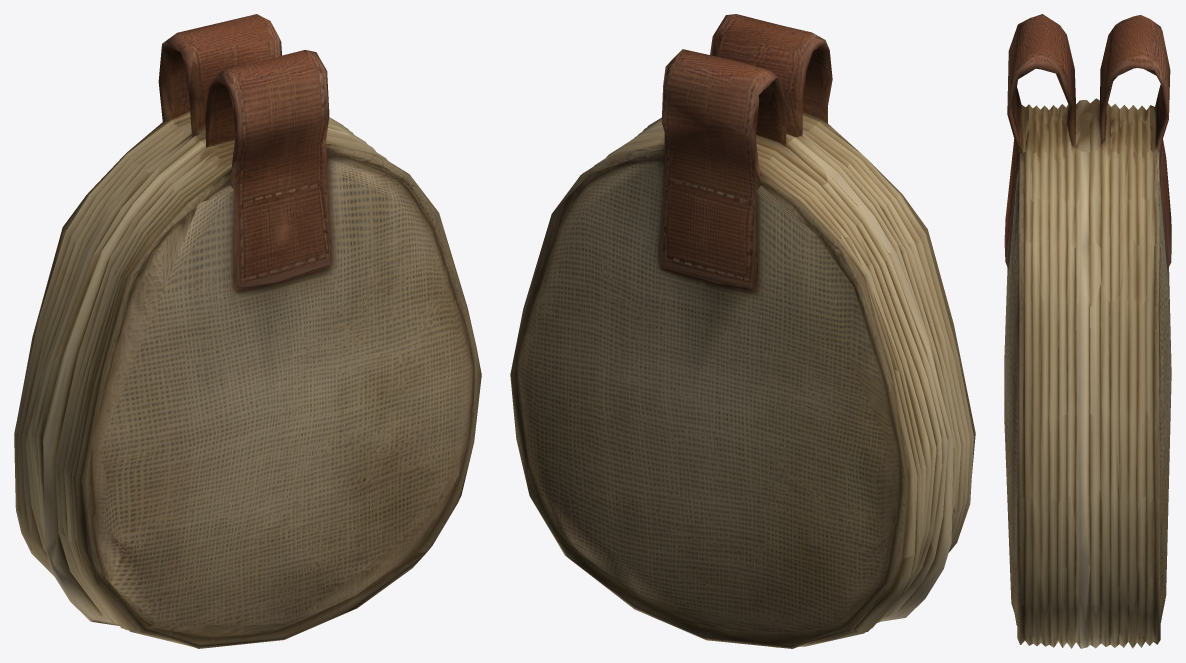
The model's file is TravelRationBag.fbx.
The picture shows the model from 3 angles, left to right: view 1: azimuth 30°, elevation 25°; view 2: azimuth 150°, elevation 25°; view 3: azimuth 270°, elevation 25°; orthographic projection.
Parts seen in each view (by area): view 1: TravelRationBag_LOD0; view 2: TravelRationBag_LOD0; view 3: TravelRationBag_LOD0.
Part boxes in pixels (box(x1,y1,x2,y2)): TravelRationBag_LOD0: box(14, 14, 481, 648); TravelRationBag_LOD0: box(510, 14, 975, 648); TravelRationBag_LOD0: box(1004, 14, 1171, 648).
Size of what is drawn, in the model's own units: 0.0446 by 0.0601 by 0.0155.
Materials: 1 (1 with a texture image).
